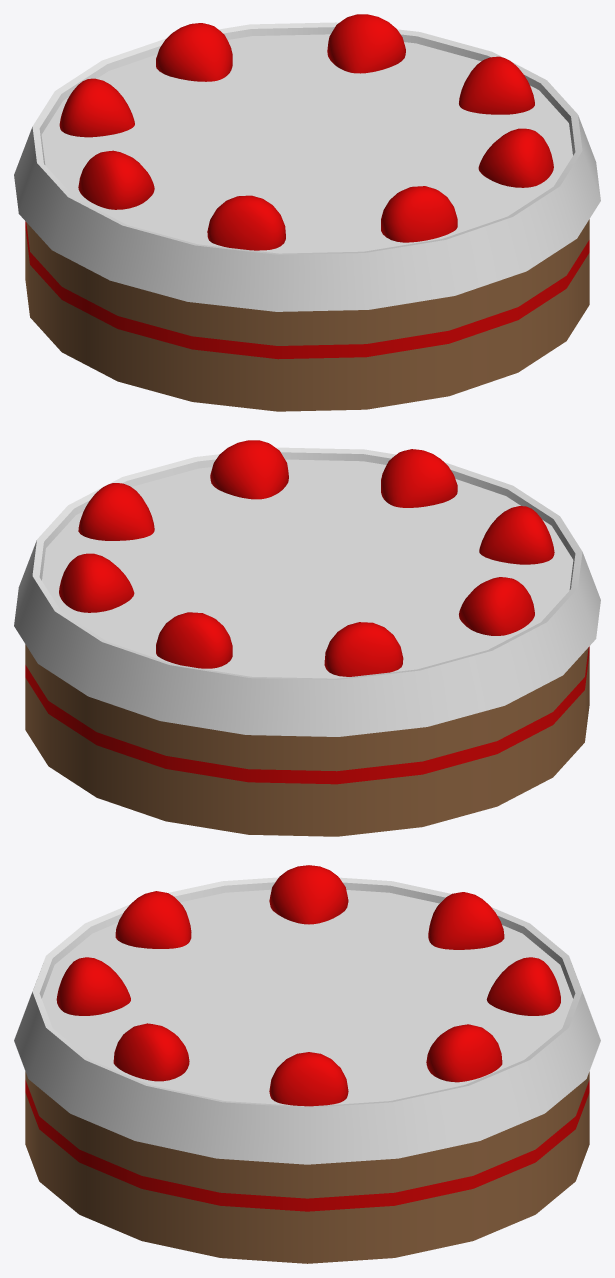
File: prp_cake.fbx
3 views of the same model, one above another, from view 1: azimuth 30°, elevation 25°; view 2: azimuth 150°, elevation 25°; view 3: azimuth 270°, elevation 25° (orthographic).
Visible parts, largest first — view 1: pSphere9; view 2: pSphere9; view 3: pSphere9.
Boxes of the visible parts, <box> form: pSphere9: <box>14,14,600,411</box>; pSphere9: <box>14,440,600,836</box>; pSphere9: <box>14,865,600,1263</box>.
Size of the model in its own units: 2 by 0.6908 by 2.
